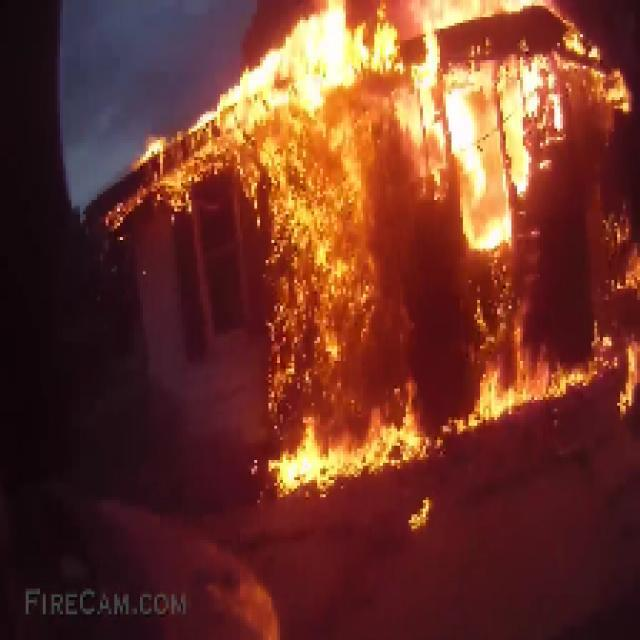Fire: (134, 0, 639, 491)
